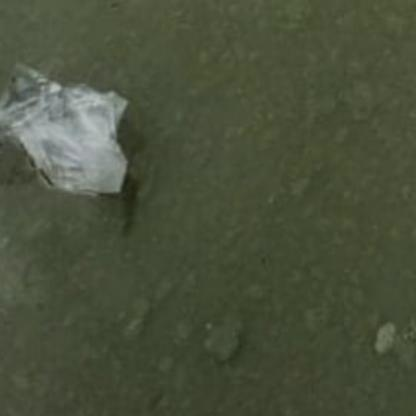Trash: (0, 63, 129, 197)
